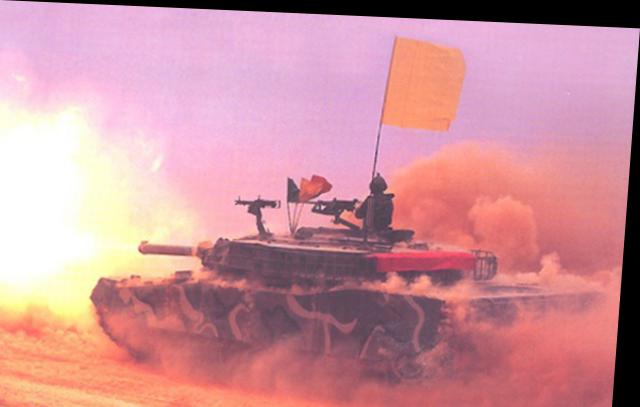other: (342, 151, 404, 241)
tank: (102, 151, 587, 393)
